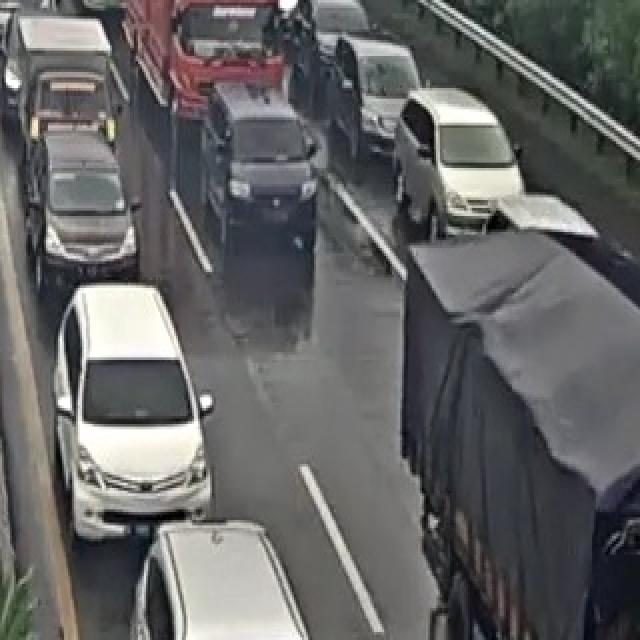bus: (56, 0, 162, 19)
car: (46, 275, 206, 533), (130, 514, 310, 640), (192, 72, 316, 253), (400, 88, 528, 237), (14, 123, 138, 274), (4, 16, 117, 171), (336, 37, 426, 163), (292, 0, 376, 80), (0, 0, 56, 61)
van: (400, 226, 640, 640), (120, 0, 278, 147)
